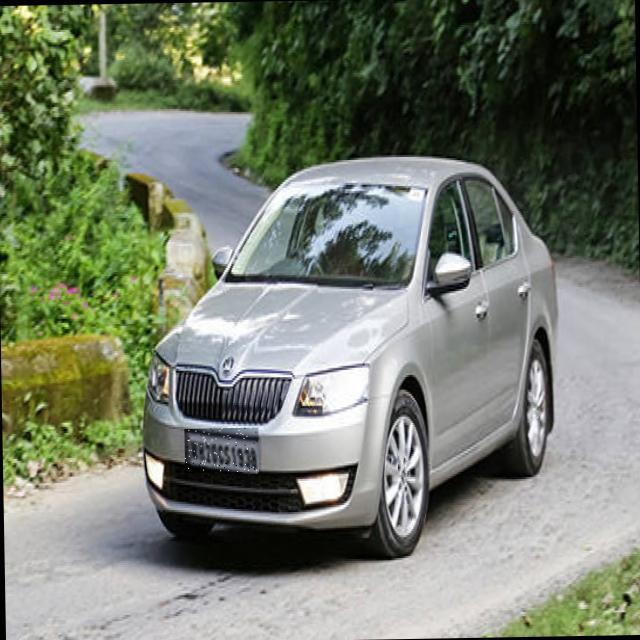Plate: (185, 428, 260, 473)
